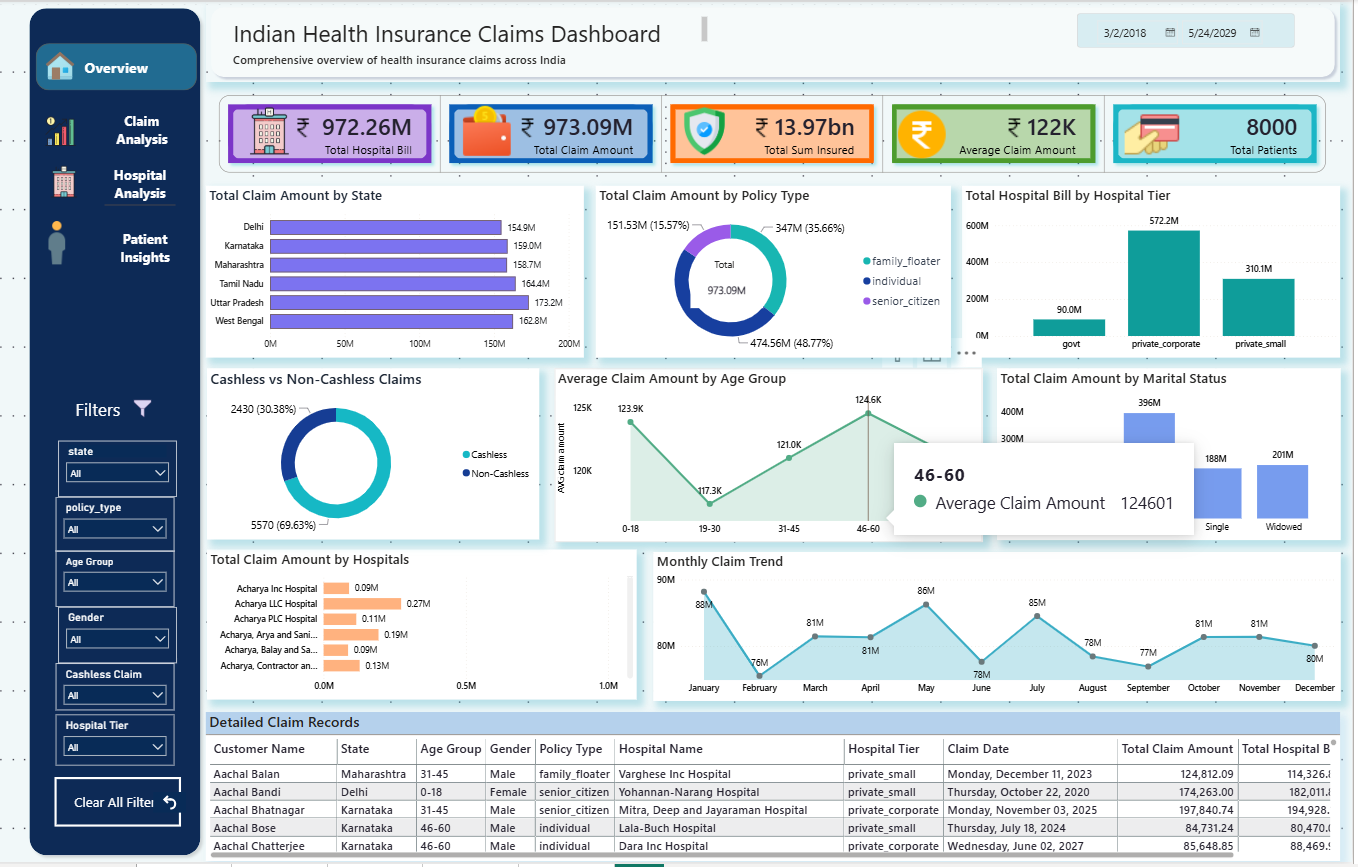

This screenshot's page, from the dashboard's own definition file:
{"tool":"powerbi","page":{"name":"Page 5","canvas":[1920,1200],"ordinal":4},"visuals":[{"type":"shape","box":[64,0,256,1200],"z":0},{"type":"slicer","fields":{"Values":["indian_health_insurance_claims_dataset.state"]},"box":[112.6,612.3,165.3,78.1],"z":1000},{"type":"slicer","fields":{"Values":["indian_health_insurance_claims_dataset.policy_type"]},"box":[110.8,690.4,165.3,76.3],"z":2000},{"type":"slicer","fields":{"Values":["indian_health_insurance_claims_dataset.gender"]},"box":[112.6,844.8,165.3,78.1],"z":3000},{"type":"slicer","fields":{"Values":["indian_health_insurance_claims_dataset.Age Group"]},"box":[110.8,766.7,165.3,78.1],"z":4000},{"type":"slicer","fields":{"Values":["indian_health_insurance_claims_dataset.hospital_tier"]},"box":[110.8,995.6,165.3,70.9],"z":5000},{"type":"slicer","fields":{"Values":["indian_health_insurance_claims_dataset.cashless_claim"]},"box":[110.8,922.9,165.3,65.4],"z":6000},{"type":"actionButton","box":[107.4,1082.6,176.7,69.3],"z":7000},{"type":"actionButton","box":[246.2,1103.1,45.8,28.6],"z":8000},{"type":"image","box":[86.6,154.2,59.3,55.8],"z":9000},{"type":"actionButton","title":"Claim Analysis","box":[180.1,154.2,101.2,54.1],"z":10000},{"type":"actionButton","title":"Hospital Analysis","box":[178.4,228.6,99.4,57.6],"z":11000},{"type":"actionButton","title":"Patient Insights","box":[185.3,317,99.4,50.6],"z":12000},{"type":"image","box":[80,304,62.8,64.5],"z":13000},{"type":"image","box":[93.5,221.7,54.1,64.5],"z":14000},{"type":"image","box":[90.1,67.6,50.2,45],"z":15000},{"type":"actionButton","box":[109.1,542.2,117.8,52],"z":16000},{"type":"image","box":[211.3,554.3,39.8,26],"z":17000},{"type":"shape","box":[81.4,57.2,225.2,65.8],"z":18000},{"type":"clusteredBarChart","title":"Total Claim Amount by State","fields":{"Y":["indian_health_insurance_claims_dataset.Total Claim Amount"],"Category":["indian_health_insurance_claims_dataset.state"]},"box":[320,256,528,240],"z":19000},{"type":"clusteredColumnChart","title":"Total Hospital Bill by Hospital Tier","fields":{"Y":["indian_health_insurance_claims_dataset.Total Hospital Bill"],"Category":["indian_health_insurance_claims_dataset.hospital_tier"]},"box":[1376,256,528,240],"z":20000},{"type":"lineChart","fields":{"Y":["indian_health_insurance_claims_dataset.Average Claim Amount"],"Category":["indian_health_insurance_claims_dataset.Age Group"]},"box":[805.8,511,598.3,242.4],"z":21000},{"type":"clusteredBarChart","title":"Total Claim Amount by Hospitals","fields":{"Category":["indian_health_insurance_claims_dataset.hospital_name"],"Y":["indian_health_insurance_claims_dataset.Total Claim Amount"]},"box":[320.9,764,600,209.3],"z":22000},{"type":"clusteredColumnChart","title":"Total Claim Amount by Marital Status","fields":{"Y":["indian_health_insurance_claims_dataset.Total Claim Amount"],"Category":["indian_health_insurance_claims_dataset.marital_status"]},"box":[1424,512,480,240],"z":23000},{"type":"donutChart","title":"Cashless vs Non-Cashless Claims","fields":{"Y":["indian_health_insurance_claims_dataset.Total Patients"],"Category":["indian_health_insurance_claims_dataset.Cashless Status"]},"box":[320.9,511,464,239],"z":24000},{"type":"shape","box":[320,0,1584,112],"z":25000},{"type":"textbox","box":[352,16,672,48],"z":26000},{"type":"textbox","box":[352,64,512,48],"z":27000},{"type":"shape","box":[1536,16,304,48],"z":28000},{"type":"slicer","fields":{"Values":["indian_health_insurance_claims_dataset.claim_date"]},"box":[1552,16,272,80],"z":29000},{"type":"cardVisual","fields":{"Data":["indian_health_insurance_claims_dataset.Total Hospital Bill","indian_health_insurance_claims_dataset.Total Claim Amount","indian_health_insurance_claims_dataset.Total Sum Insured","indian_health_insurance_claims_dataset.Average Claim Amount","indian_health_insurance_claims_dataset.Total Patients"]},"box":[320,112,1584,144],"z":30000},{"type":"image","box":[368,144,80,80],"z":31000},{"type":"image","box":[1280,144,80,80],"z":32000},{"type":"image","box":[672,144,80,80],"z":33000},{"type":"image","box":[1600,144,80,80],"z":34000},{"type":"image","box":[976,144,80,70],"z":35000},{"type":"donutChart","title":"Total Claim Amount by Policy Type","fields":{"Category":["indian_health_insurance_claims_dataset.policy_type"],"Y":["indian_health_insurance_claims_dataset.Total Claim Amount"]},"box":[864,256,496,240],"z":36000},{"type":"cardVisual","fields":{"Data":["indian_health_insurance_claims_dataset.Total Claim Amount"]},"box":[992,368,112,64],"z":37000},{"type":"textbox","box":[1024,352,64,32],"z":38000},{"type":"lineChart","title":" Monthly Claim Trend","fields":{"Y":["indian_health_insurance_claims_dataset.Total Claim Amount"],"Category":["indian_health_insurance_claims_dataset.claim_date.Variation.Date Hierarchy.Month"]},"box":[944,768,960,208],"z":39000},{"type":"tableEx","title":"Detailed Claim Records","fields":{"Values":["indian_health_insurance_claims_dataset.customer_name","indian_health_insurance_claims_dataset.state","indian_health_insurance_claims_dataset.Age Group","indian_health_insurance_claims_dataset.gender","indian_health_insurance_claims_dataset.policy_type","indian_health_insurance_claims_dataset.hospital_name","indian_health_insurance_claims_dataset.hospital_tier","indian_health_insurance_claims_dataset.claim_date","indian_health_insurance_claims_dataset.Total Claim Amount","indian_health_insurance_claims_dataset.Total Hospital Bill","indian_health_insurance_claims_dataset.cashless_claim"]},"box":[320,992,1584,208],"z":40000},{"type":"image","box":[416,160,80,32],"z":41000},{"type":"image","box":[720,160,96,32],"z":42000},{"type":"image","box":[1056,160,80,32],"z":43000},{"type":"image","box":[1408,160,80,32],"z":44000}]}

Visuals, with their boxes in screenshot pixels (x1, y1, x2, y2), scaled from the page's 1920x1200 canvas onto the 1358x867 screenshot:
shape: 45/0/226/866
slicer - indian_health_insurance_claims_dataset.state: 80/442/197/499
slicer - indian_health_insurance_claims_dataset.policy_type: 78/499/195/554
slicer - indian_health_insurance_claims_dataset.gender: 80/610/197/667
slicer - indian_health_insurance_claims_dataset.Age Group: 78/554/195/610
slicer - indian_health_insurance_claims_dataset.hospital_tier: 78/719/195/771
slicer - indian_health_insurance_claims_dataset.cashless_claim: 78/667/195/714
actionButton: 76/782/201/832
actionButton: 174/797/207/818
image: 61/111/103/152
"Claim Analysis" actionButton: 127/111/199/150
"Hospital Analysis" actionButton: 126/165/196/207
"Patient Insights" actionButton: 131/229/201/266
image: 57/220/101/266
image: 66/160/104/207
image: 64/49/99/81
actionButton: 77/392/160/429
image: 149/400/178/419
shape: 58/41/217/89
"Total Claim Amount by State" clusteredBarChart: 226/185/600/358
"Total Hospital Bill by Hospital Tier" clusteredColumnChart: 973/185/1347/358
lineChart - indian_health_insurance_claims_dataset.Average Claim Amount x indian_health_insurance_claims_dataset.Age Group: 570/369/993/544
"Total Claim Amount by Hospitals" clusteredBarChart: 227/552/651/703
"Total Claim Amount by Marital Status" clusteredColumnChart: 1007/370/1347/543
"Cashless vs Non-Cashless Claims" donutChart: 227/369/555/542
shape: 226/0/1347/81
textbox: 249/12/724/46
textbox: 249/46/611/81
shape: 1086/12/1301/46
slicer - indian_health_insurance_claims_dataset.claim_date: 1098/12/1290/69
cardVisual - indian_health_insurance_claims_dataset.Total Hospital Bill x indian_health_insurance_claims_dataset.Total Claim Amount: 226/81/1347/185
image: 260/104/317/162
image: 905/104/962/162
image: 475/104/532/162
image: 1132/104/1188/162
image: 690/104/747/155
"Total Claim Amount by Policy Type" donutChart: 611/185/962/358
cardVisual - indian_health_insurance_claims_dataset.Total Claim Amount: 702/266/781/312
textbox: 724/254/770/277
" Monthly Claim Trend" lineChart: 668/555/1347/705
"Detailed Claim Records" tableEx: 226/717/1347/866
image: 294/116/351/139
image: 509/116/577/139
image: 747/116/803/139
image: 996/116/1052/139
